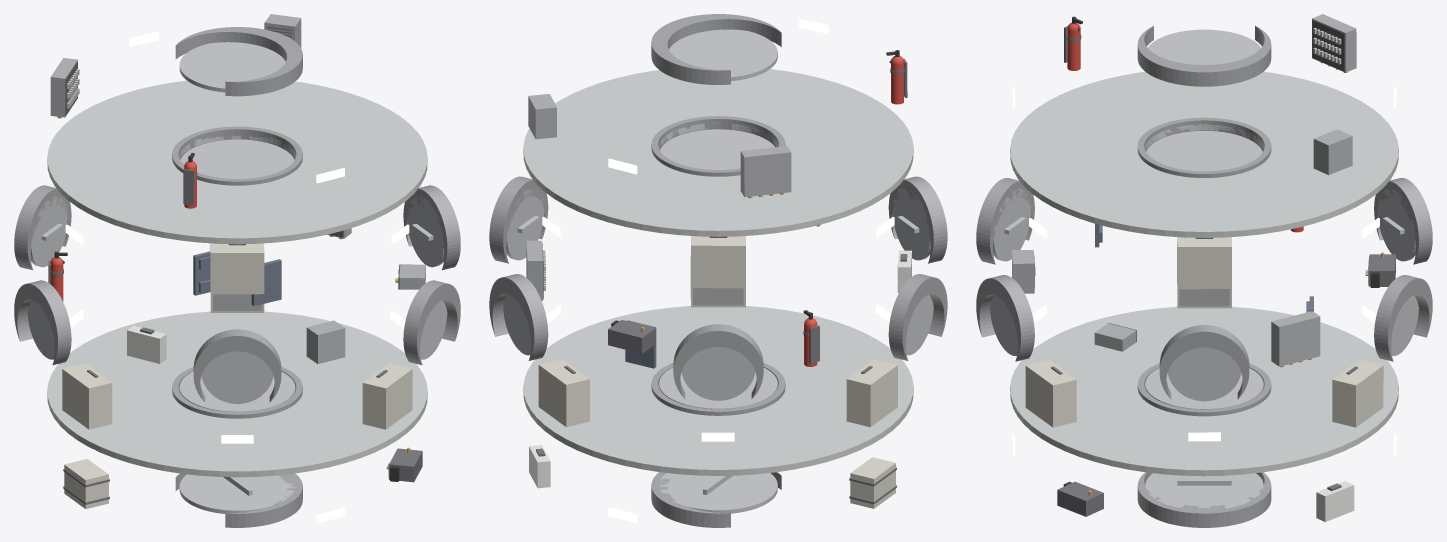
Rendered from station09_spin_hub_cutaway.glb.
3 renders of one model, left to right at view 1: azimuth 30°, elevation 25°; view 2: azimuth 150°, elevation 25°; view 3: azimuth 270°, elevation 25°, orthographic. The views are drawn at different scales.
Parts seen in each view (by area): view 1: interface_19_bulkhead, interface_16_bulkhead, hatch_door_2, hatch_tunnel_2, hatch_door_1, hatch_door_10, hatch_door_7, eq20_5_bag, eq20_4_bag, eq20_6_bag, hatch_tunnel_10, hatch_tunnel_6 (+22 smaller); view 2: interface_19_bulkhead, interface_16_bulkhead, hatch_door_2, hatch_tunnel_2, hatch_door_1, hatch_door_10, hatch_door_5, eq20_3_bag, eq20_4_bag, eq20_2_bag, hatch_tunnel_4, hatch_tunnel_6 (+21 smaller); view 3: interface_19_bulkhead, interface_16_bulkhead, hatch_door_10, hatch_tunnel_2, hatch_door_1, hatch_tunnel_1, hatch_door_2, hatch_door_3, eq20_1_bag, eq20_6_bag, eq20_2_bag, hatch_tunnel_10 (+24 smaller).
Boxes of the visible parts, x1,y1,x2,y2 form: interface_19_bulkhead: (47, 80, 427, 244); interface_16_bulkhead: (47, 311, 427, 477); hatch_door_2: (179, 42, 285, 92); hatch_tunnel_2: (175, 27, 302, 96); hatch_door_1: (179, 474, 295, 513); hatch_door_10: (180, 139, 294, 178); hatch_door_7: (201, 351, 273, 403); eq20_5_bag: (210, 243, 264, 294); eq20_4_bag: (62, 363, 112, 429); eq20_6_bag: (362, 363, 412, 429); hatch_tunnel_10: (172, 126, 302, 185); hatch_tunnel_6: (14, 280, 71, 365); interface_19_bulkhead: (523, 69, 913, 236); interface_16_bulkhead: (523, 306, 913, 475); hatch_door_2: (669, 29, 777, 81); hatch_tunnel_2: (651, 14, 781, 84); hatch_door_1: (660, 473, 777, 513); hatch_door_10: (660, 129, 774, 169); hatch_door_5: (681, 347, 755, 400); eq20_3_bag: (691, 236, 745, 288); eq20_4_bag: (846, 359, 897, 427); eq20_2_bag: (538, 359, 589, 427); hatch_tunnel_4: (489, 274, 548, 360); hatch_tunnel_6: (888, 274, 947, 360); interface_19_bulkhead: (1010, 71, 1398, 237); interface_16_bulkhead: (1010, 306, 1398, 476); hatch_door_10: (1146, 131, 1262, 171); hatch_tunnel_2: (1137, 26, 1271, 86); hatch_door_1: (1145, 473, 1263, 510); hatch_tunnel_1: (1137, 472, 1271, 527); hatch_door_2: (1148, 29, 1260, 64); hatch_door_3: (1167, 347, 1241, 401); eq20_1_bag: (1177, 237, 1231, 289); eq20_6_bag: (1025, 360, 1076, 427); eq20_2_bag: (1332, 359, 1383, 427); hatch_tunnel_10: (1137, 117, 1271, 177).
Bounding box in the file's own units: 4.34 × 4.59 × 4.17.
